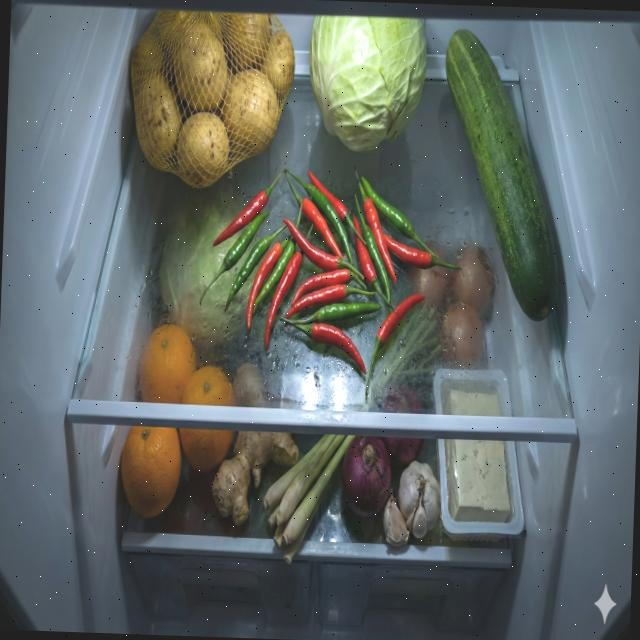cabbage: (305, 14, 428, 156), (157, 181, 260, 350)
chili: (196, 161, 466, 402)
cucumber: (436, 28, 568, 324)
garlic: (382, 459, 441, 549)
ginger: (209, 361, 302, 528)
lemongrass: (260, 298, 442, 572)
onion: (340, 435, 392, 518)
orange: (119, 320, 238, 520)
potato: (127, 7, 296, 192)
tofu: (439, 390, 515, 522)
